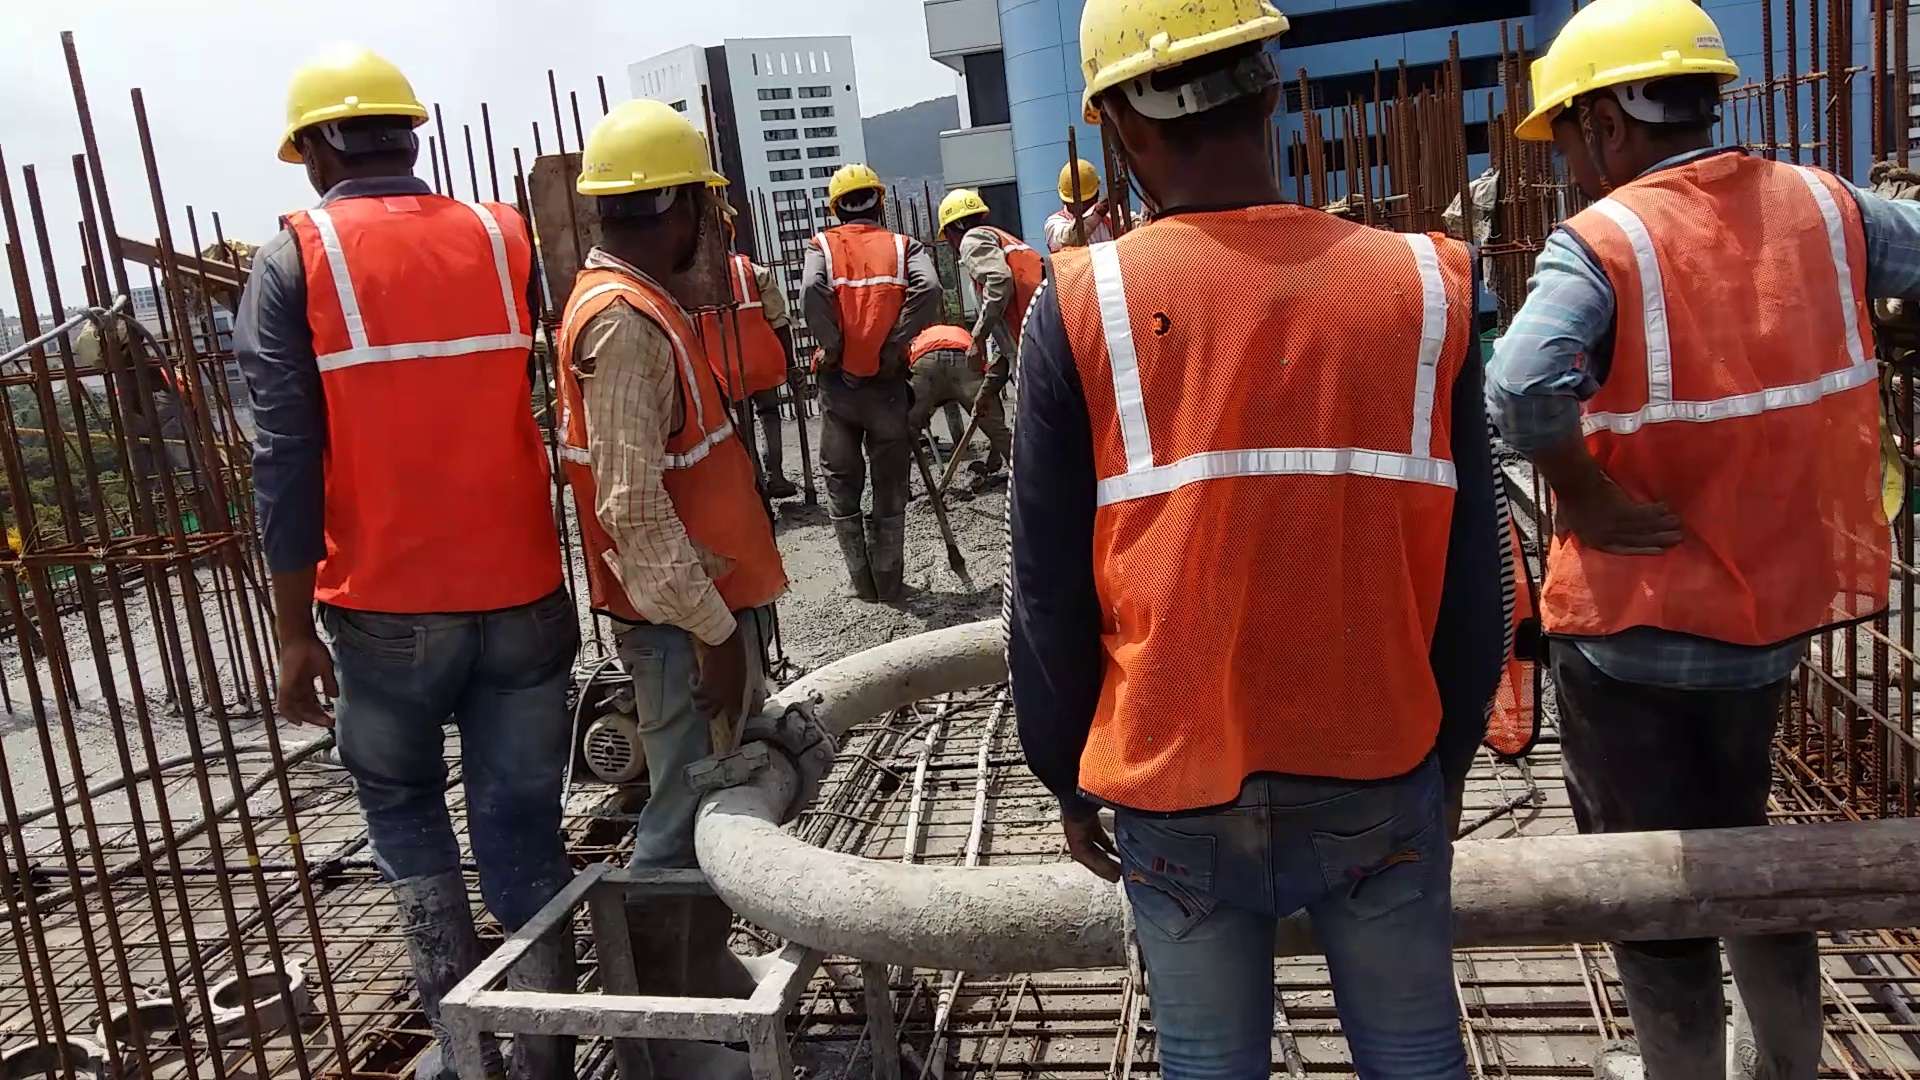SAFE: (1039, 1, 1451, 798), (1584, 1, 1859, 636), (243, 54, 537, 618), (558, 105, 765, 621), (819, 161, 913, 388)
